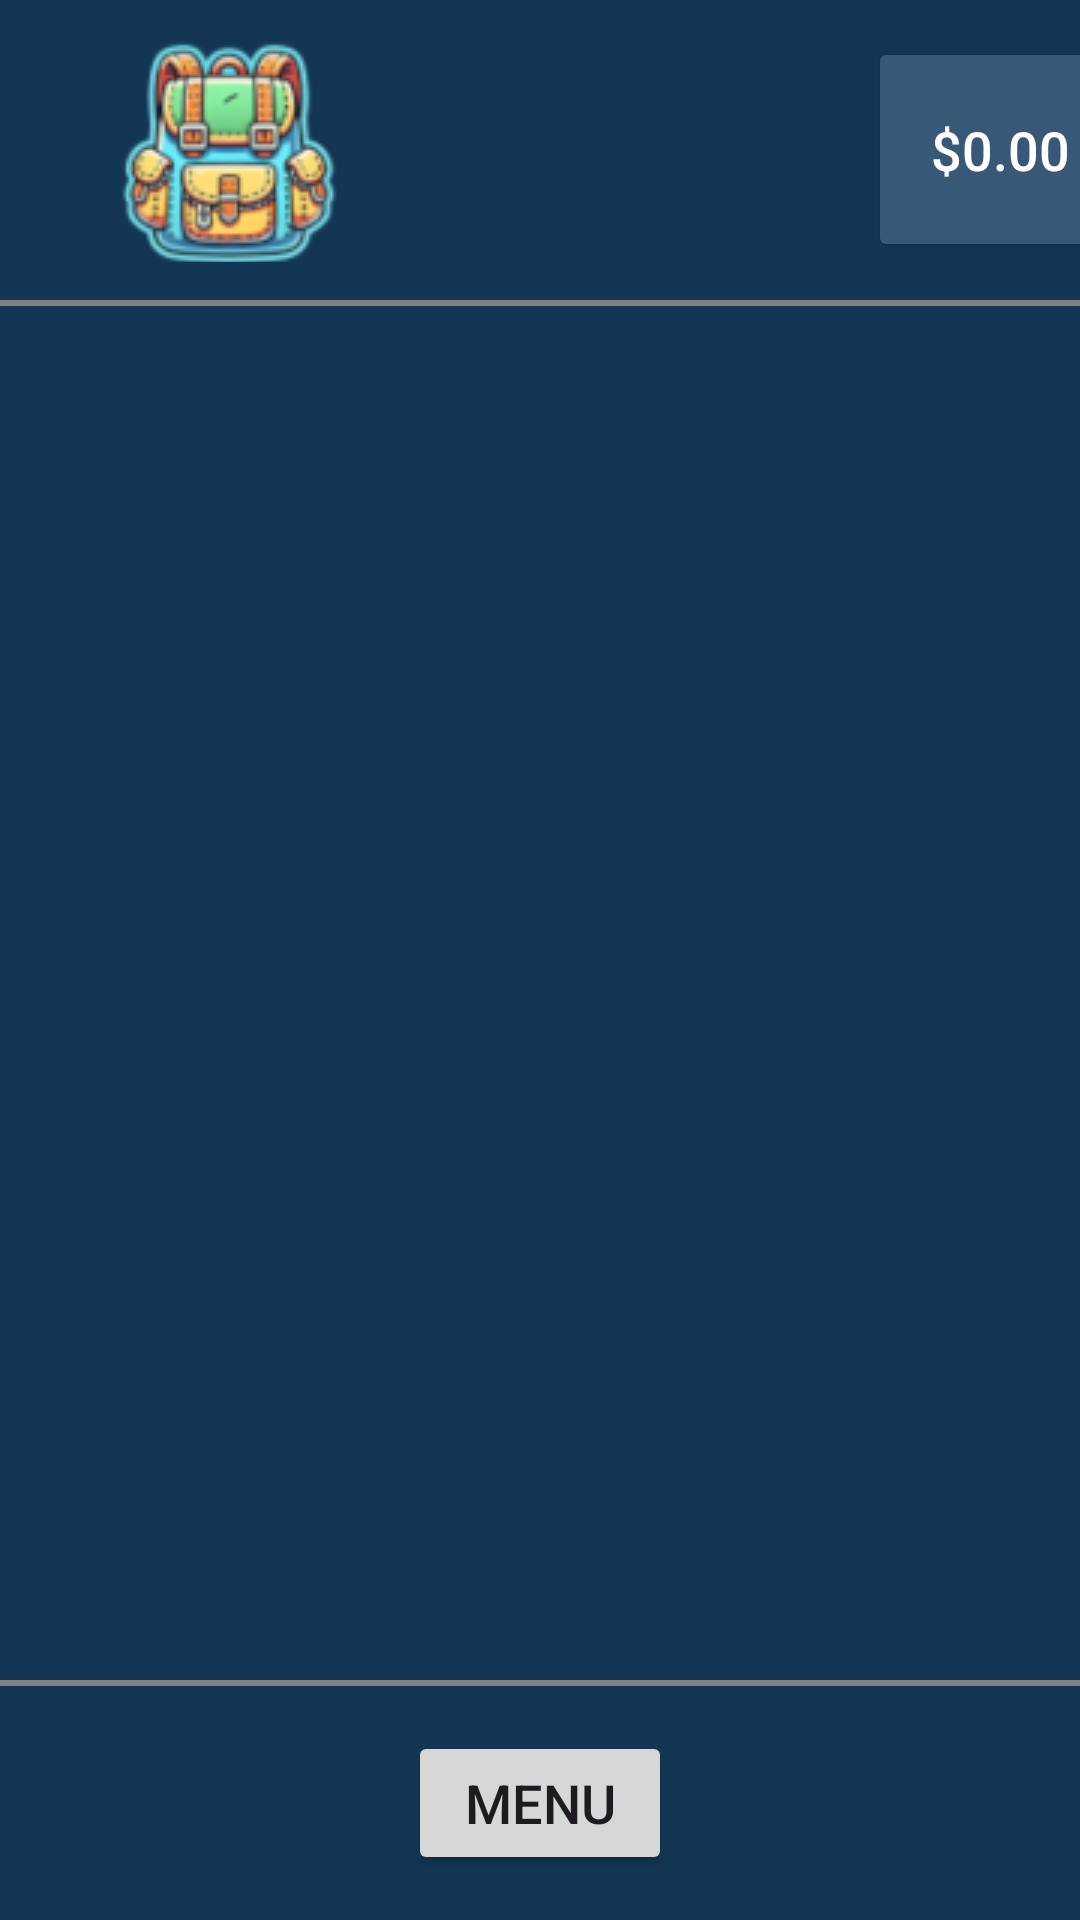

Point at icon controls on the screen. Image size 1080w x 1920h, points as point (x, y).
eqicon: point (229, 153)
